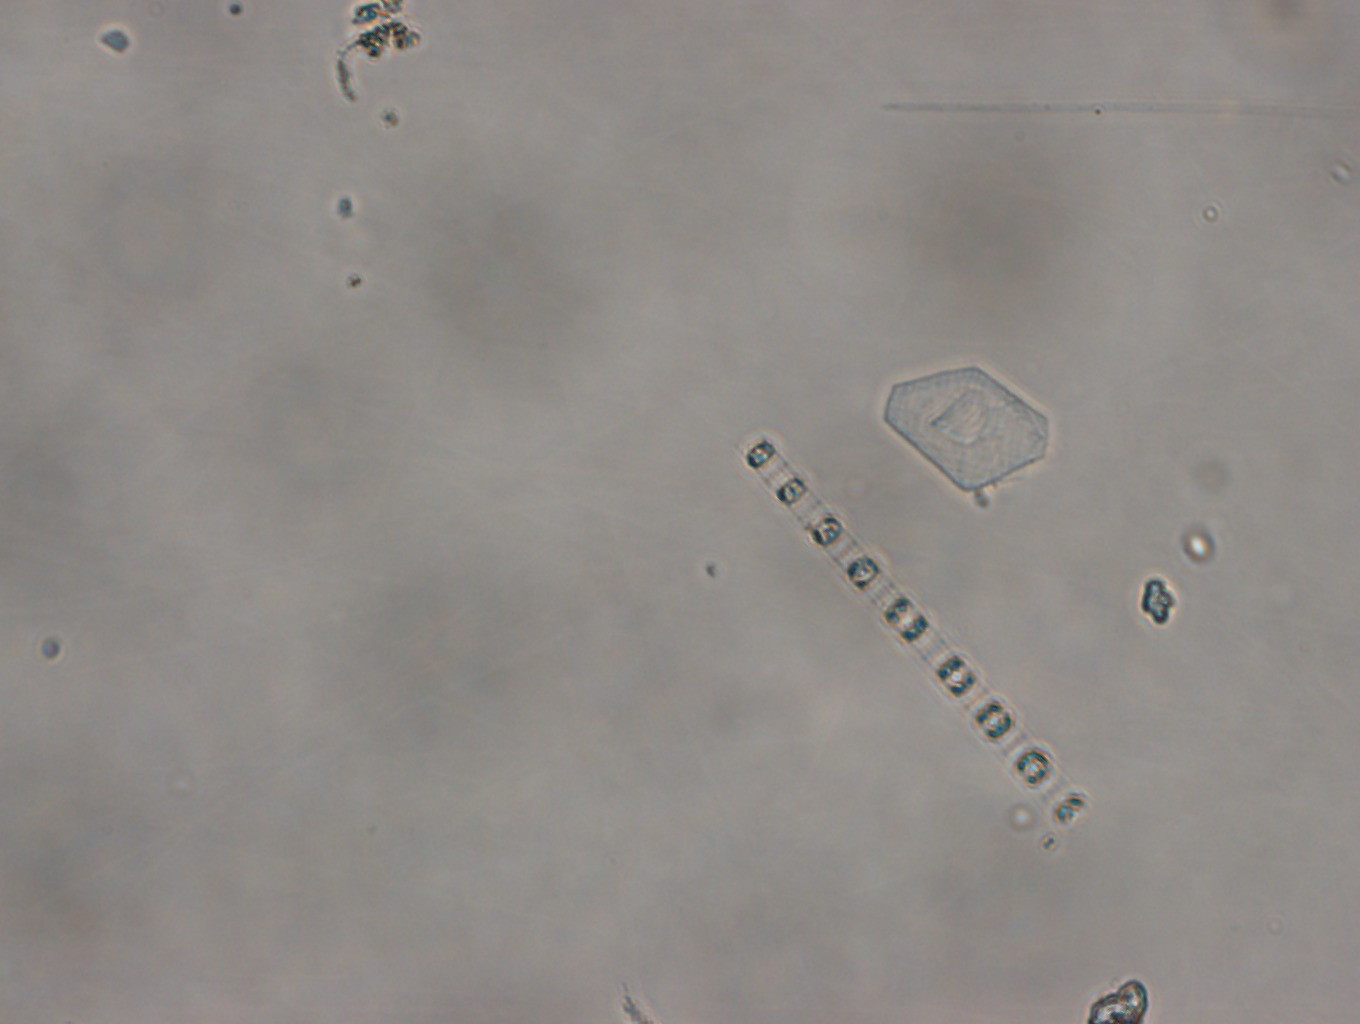skeletonema: (742, 436, 1093, 825)
